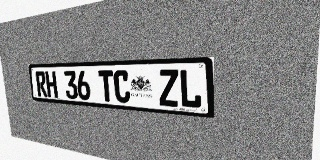3: (64, 71, 78, 99)
6: (76, 71, 91, 100)
C: (113, 70, 131, 103)
H: (45, 71, 58, 98)
L: (179, 69, 202, 109)
R: (35, 71, 48, 97)
T: (98, 70, 115, 102)
Z: (158, 69, 179, 107)
